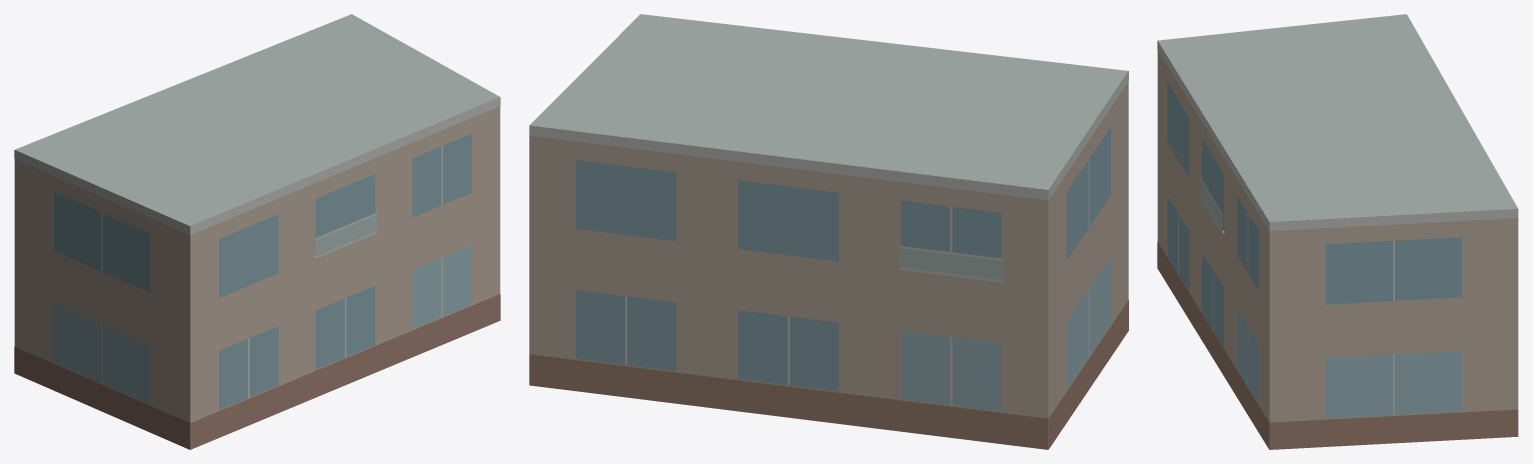
The model's file is survey-upis-32491016.glb.
3 views of the same model, side by side, from view 1: azimuth 30°, elevation 25°; view 2: azimuth 150°, elevation 25°; view 3: azimuth 270°, elevation 25° (orthographic). The views are drawn at different scales.
Visible parts, largest first — view 1: survey-upis-32491016.tmp; view 2: survey-upis-32491016.tmp; view 3: survey-upis-32491016.tmp.
Part boxes in pixels (x1,y1,x2,y2): survey-upis-32491016.tmp: (14,14,500,449); survey-upis-32491016.tmp: (529,14,1128,449); survey-upis-32491016.tmp: (1157,14,1518,449).
Size of the model in its own units: 11.96 by 6.1 by 8.77.
